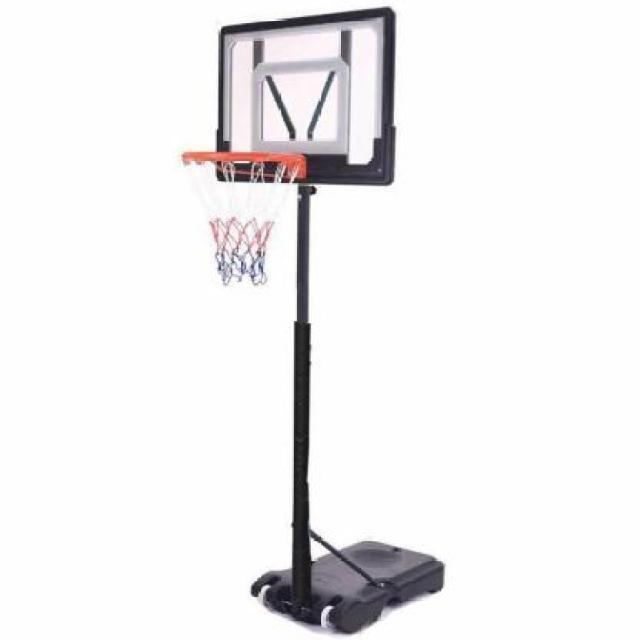rim: (182, 148, 306, 284)
